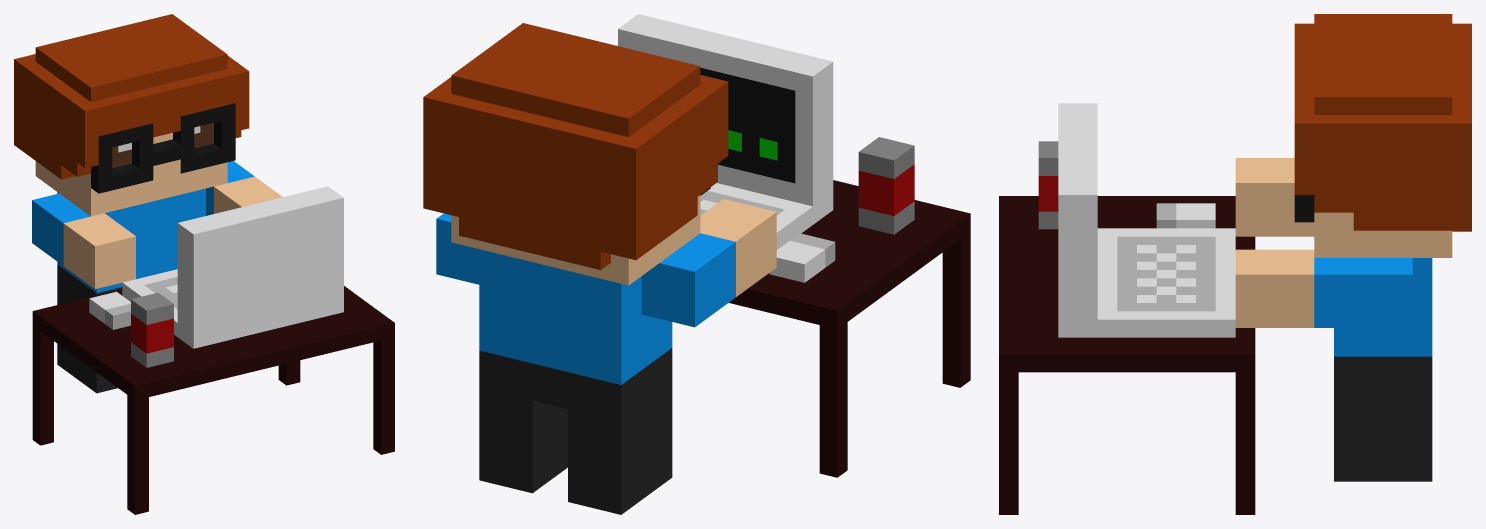
Rendered from felipinho.obj.
3 renders of one model, left to right at view 1: azimuth 30°, elevation 25°; view 2: azimuth 150°, elevation 25°; view 3: azimuth 270°, elevation 25°, orthographic. The views are drawn at different scales.
Bounding box in the file's own units: 1.9 × 2.2 × 2.4.
Materials: 1 (1 with a texture image).
